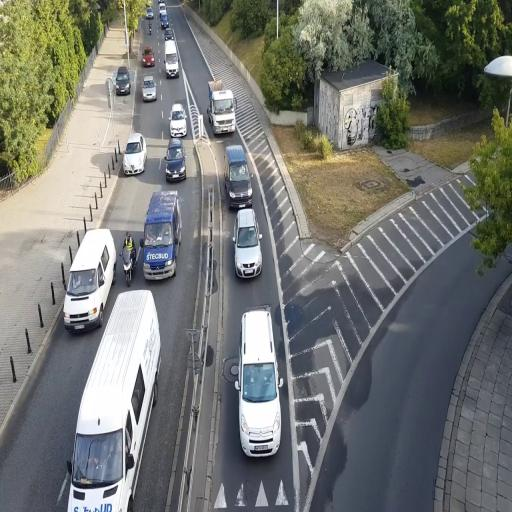vehicle: (70, 287, 161, 509), (238, 305, 283, 459), (62, 228, 116, 334), (64, 227, 116, 334), (142, 187, 182, 282), (234, 208, 262, 280), (225, 144, 253, 211), (225, 144, 252, 210), (206, 80, 236, 137), (122, 132, 147, 176), (164, 138, 187, 182), (121, 233, 137, 284), (170, 102, 188, 138), (114, 67, 131, 96), (142, 76, 157, 102)
